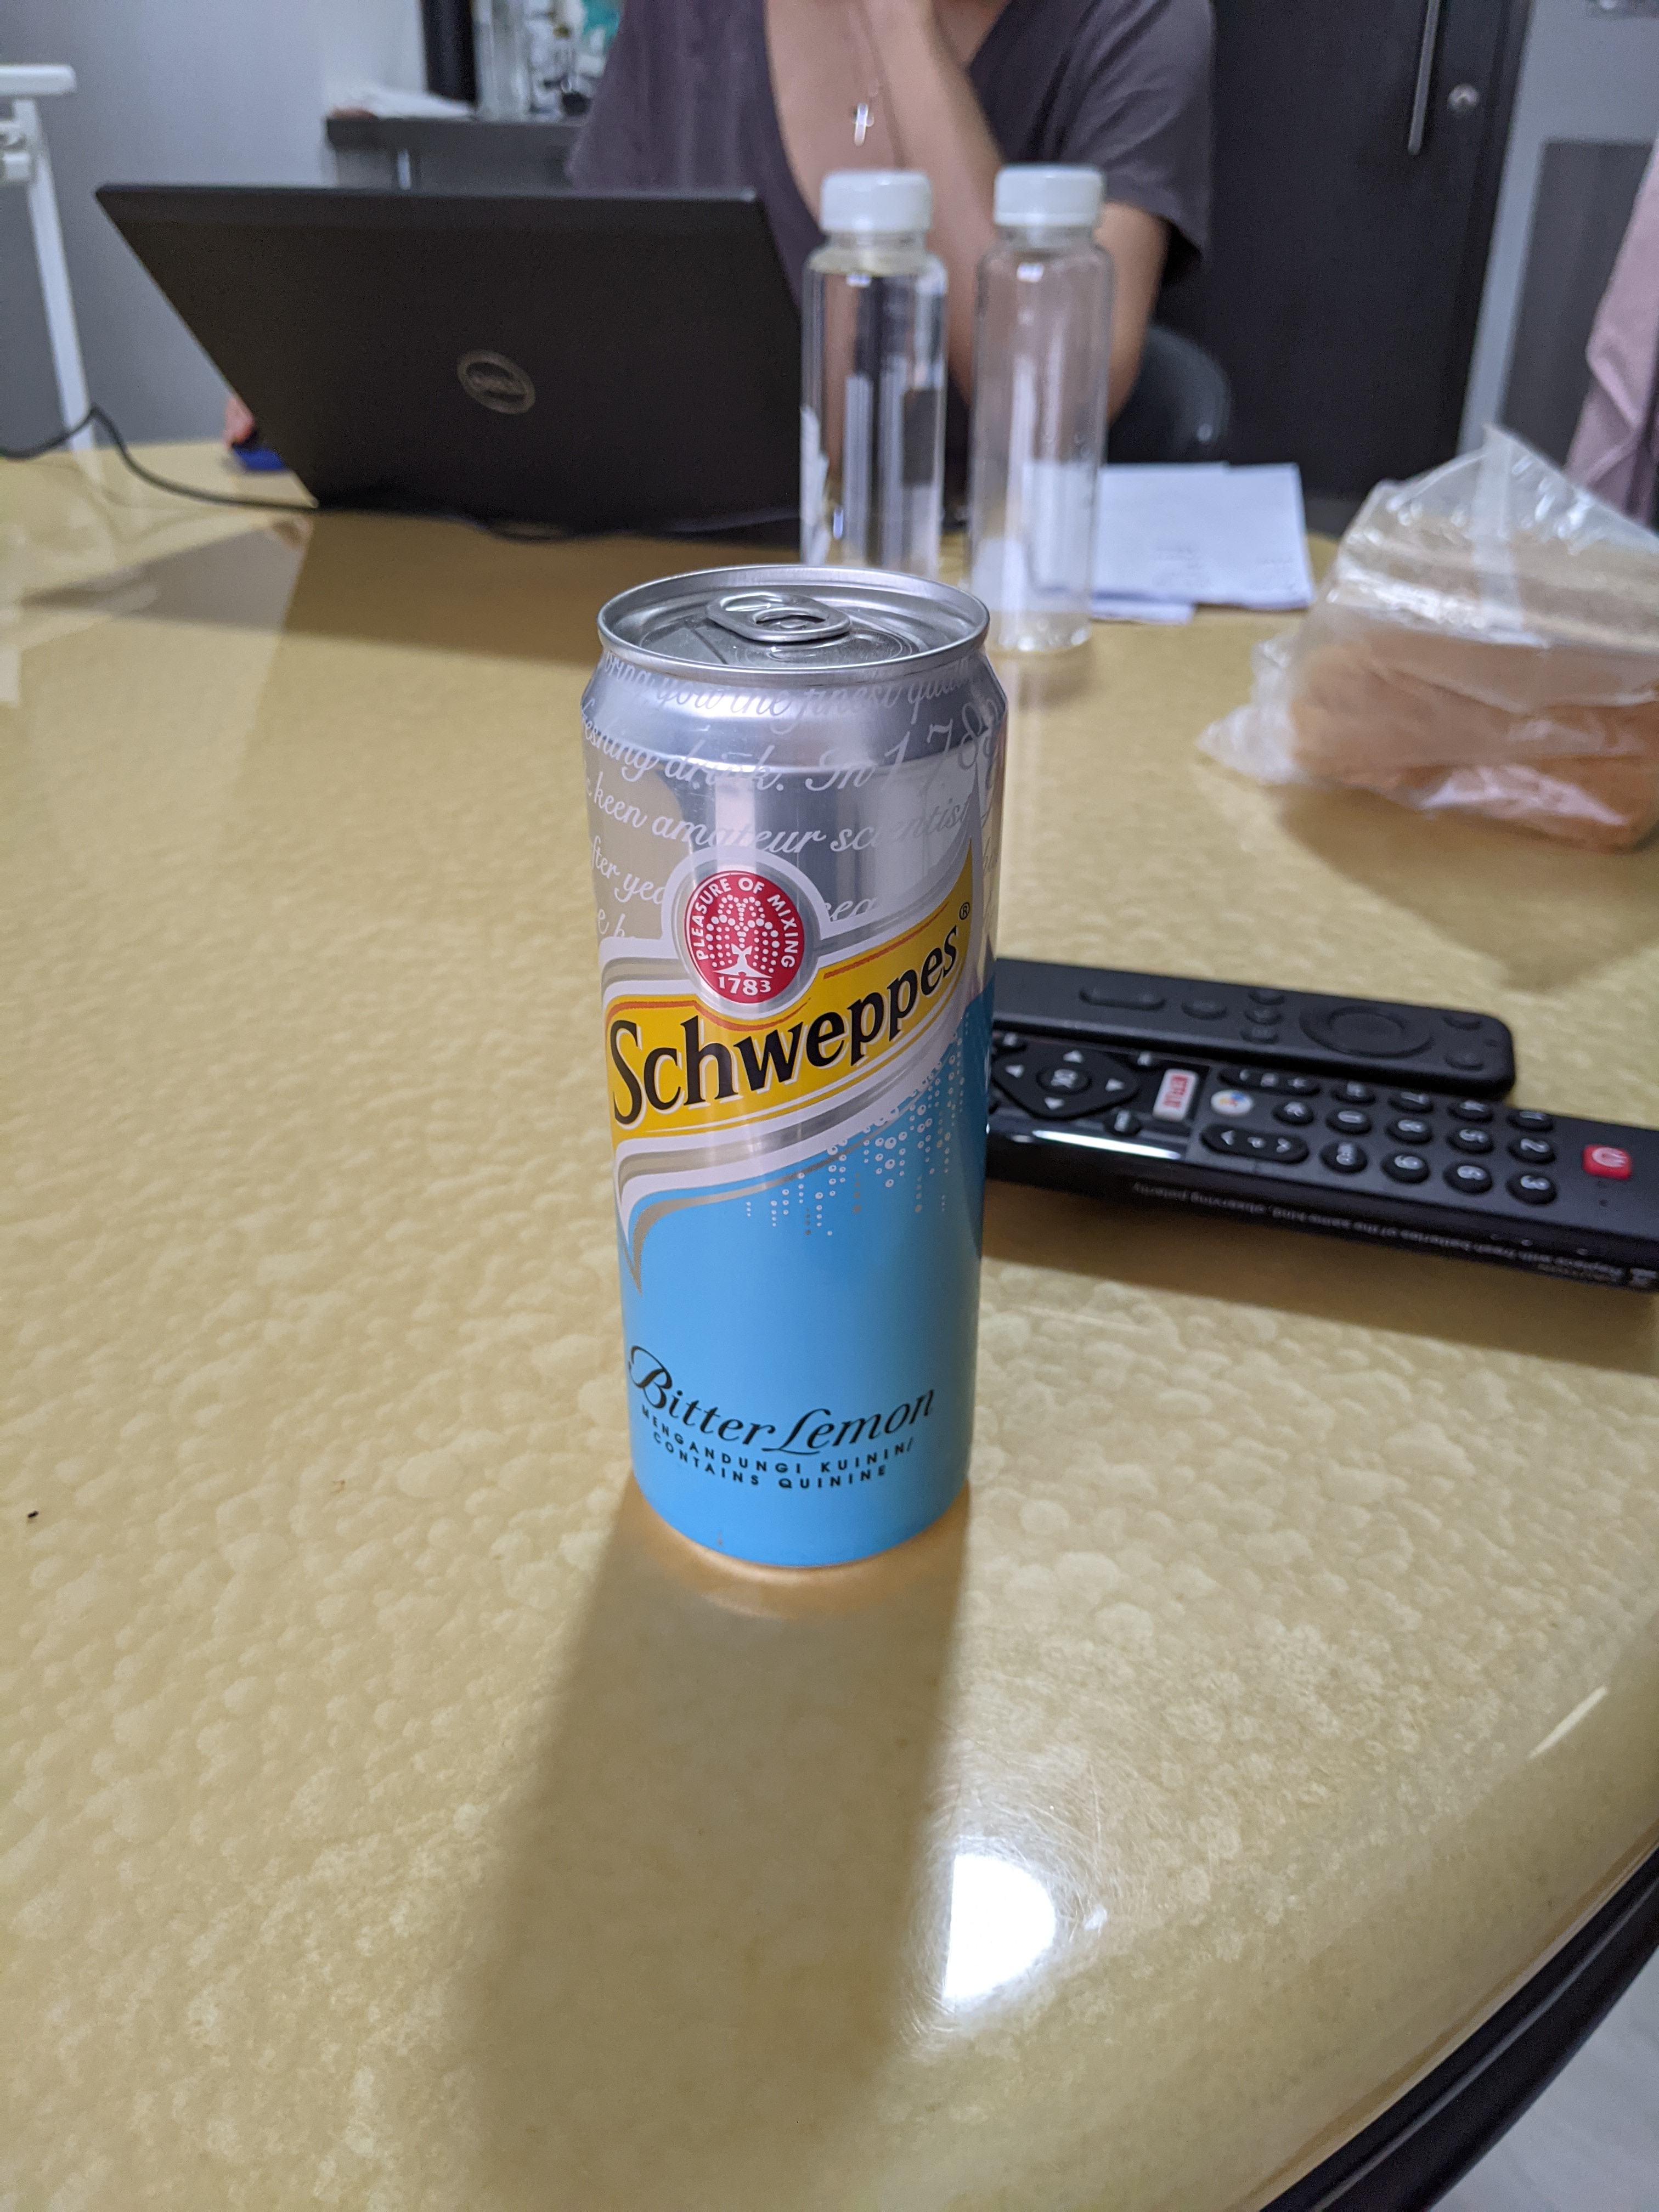schweppes drink can bitter lemon: (566, 547, 1026, 1597)
